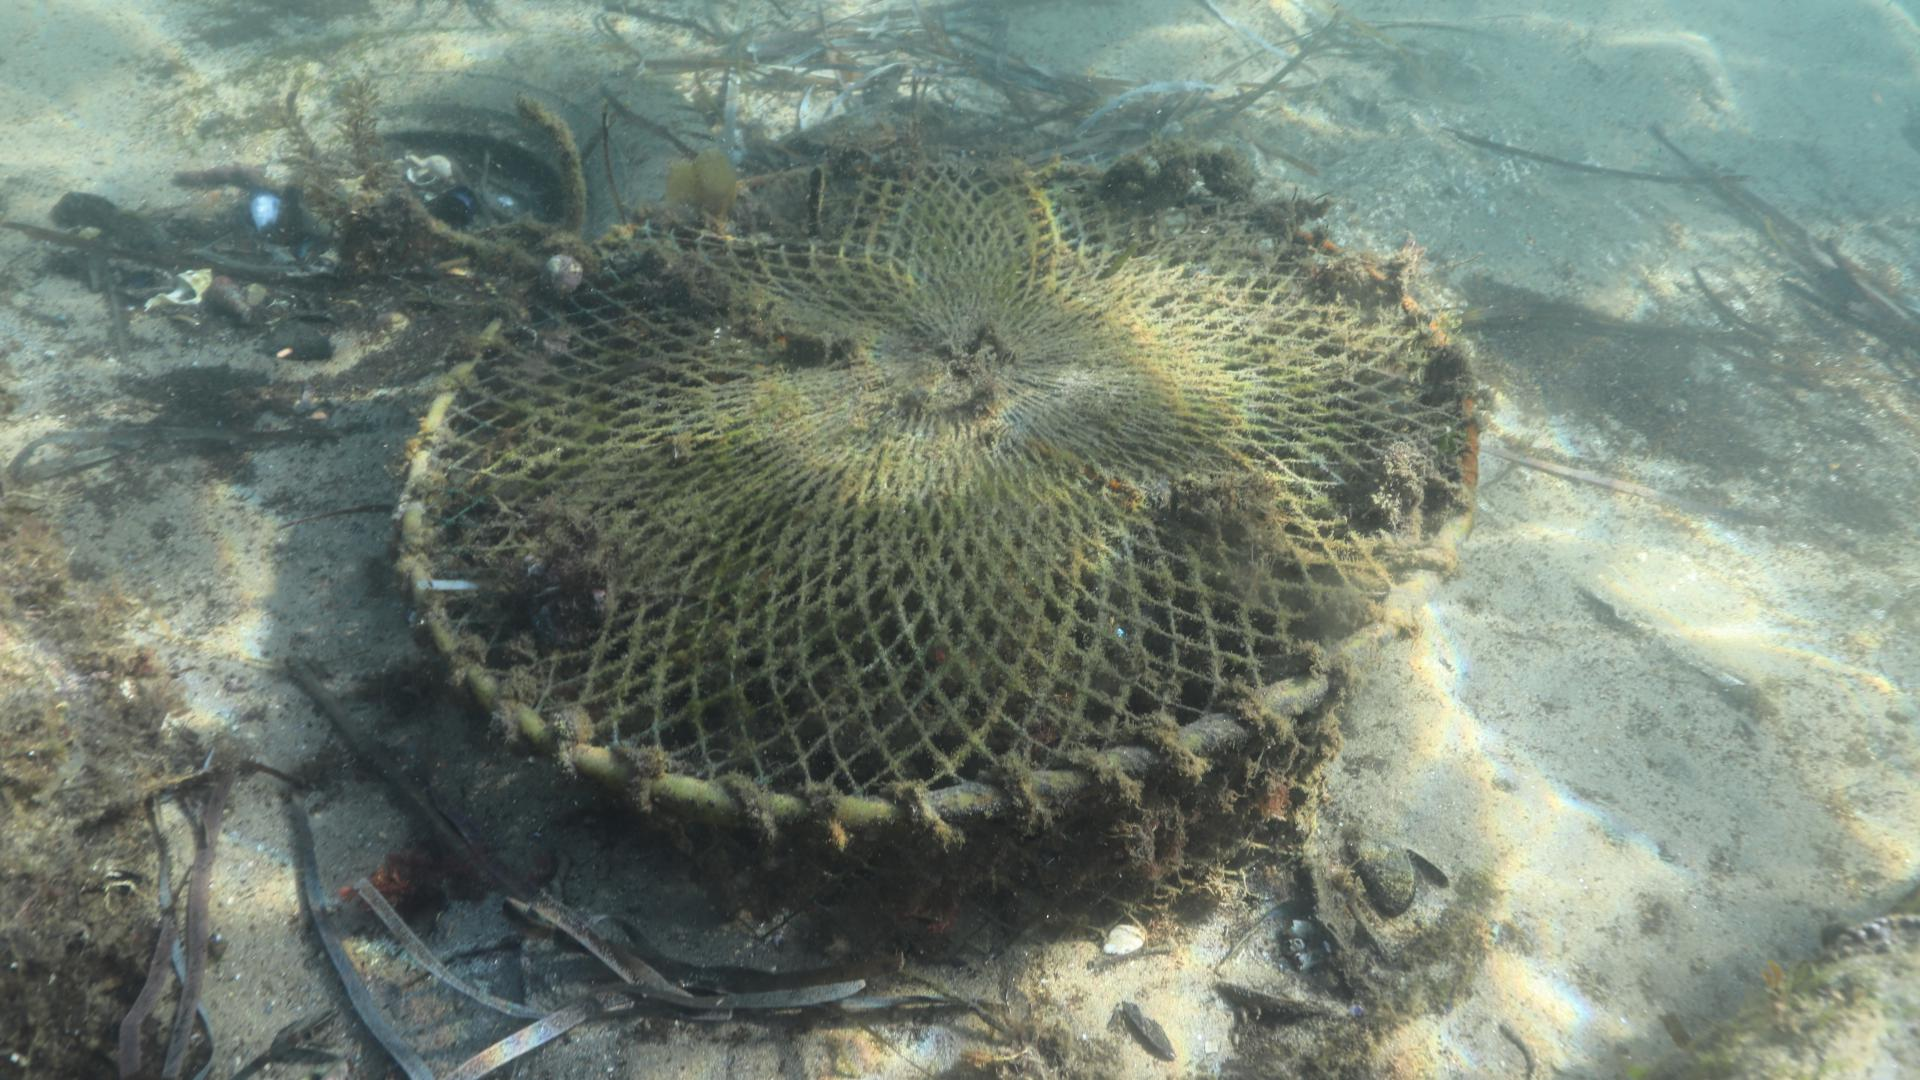circular fish trap: (392, 145, 1484, 891)
